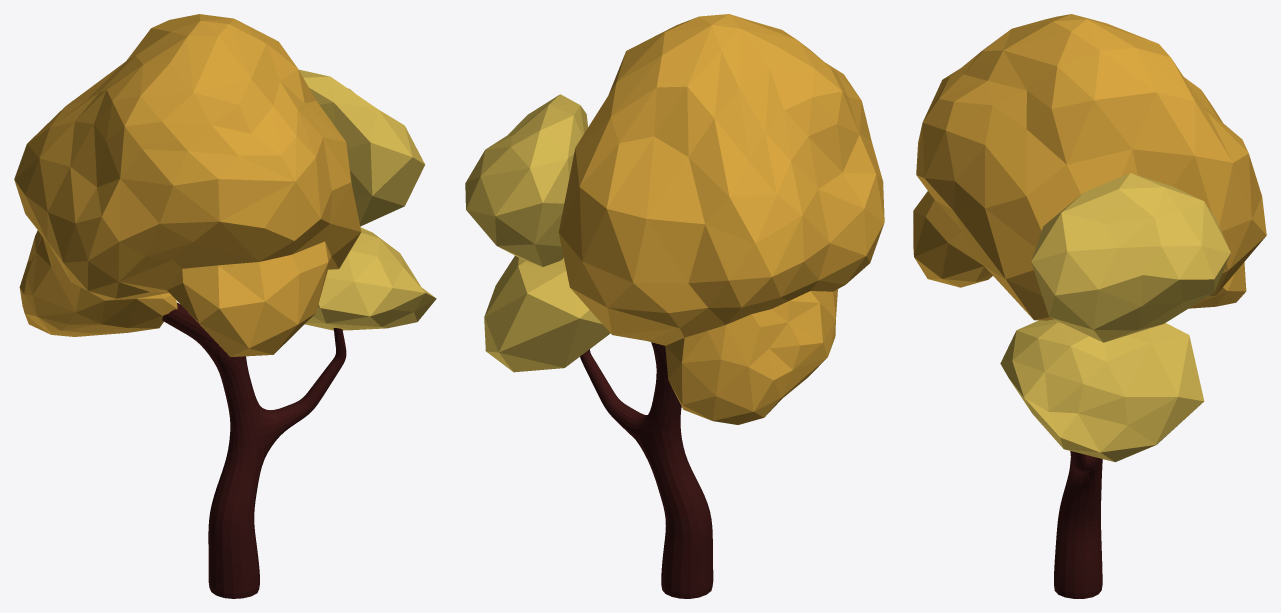
File: savanna_tree_3.fbx
3 renders of one model, left to right at view 1: azimuth 30°, elevation 25°; view 2: azimuth 150°, elevation 25°; view 3: azimuth 270°, elevation 25°, orthographic. The views are drawn at different scales.
Parts seen in each view (by area): view 1: tree3_Icosphere.006, Cube.001, tree5_Cube.019, tree5_Cube.018; view 2: tree3_Icosphere.006, tree5_Cube.019, Cube.001, tree5_Cube.018; view 3: tree3_Icosphere.006, tree5_Cube.019, tree5_Cube.018, Cube.001.
Part boxes in pixels (x1,y1,x2,y2): tree3_Icosphere.006: (14,14,361,356); Cube.001: (162,302,346,598); tree5_Cube.019: (299,69,425,226); tree5_Cube.018: (305,227,436,330); tree3_Icosphere.006: (558,14,884,424); tree5_Cube.019: (465,94,587,266); Cube.001: (580,342,713,598); tree5_Cube.018: (484,256,610,372); tree3_Icosphere.006: (913,14,1266,320); tree5_Cube.019: (1031,173,1230,342); tree5_Cube.018: (1000,319,1204,462); Cube.001: (1054,451,1102,598).
Size of the model in its own units: 1376 by 2046 by 1179.
